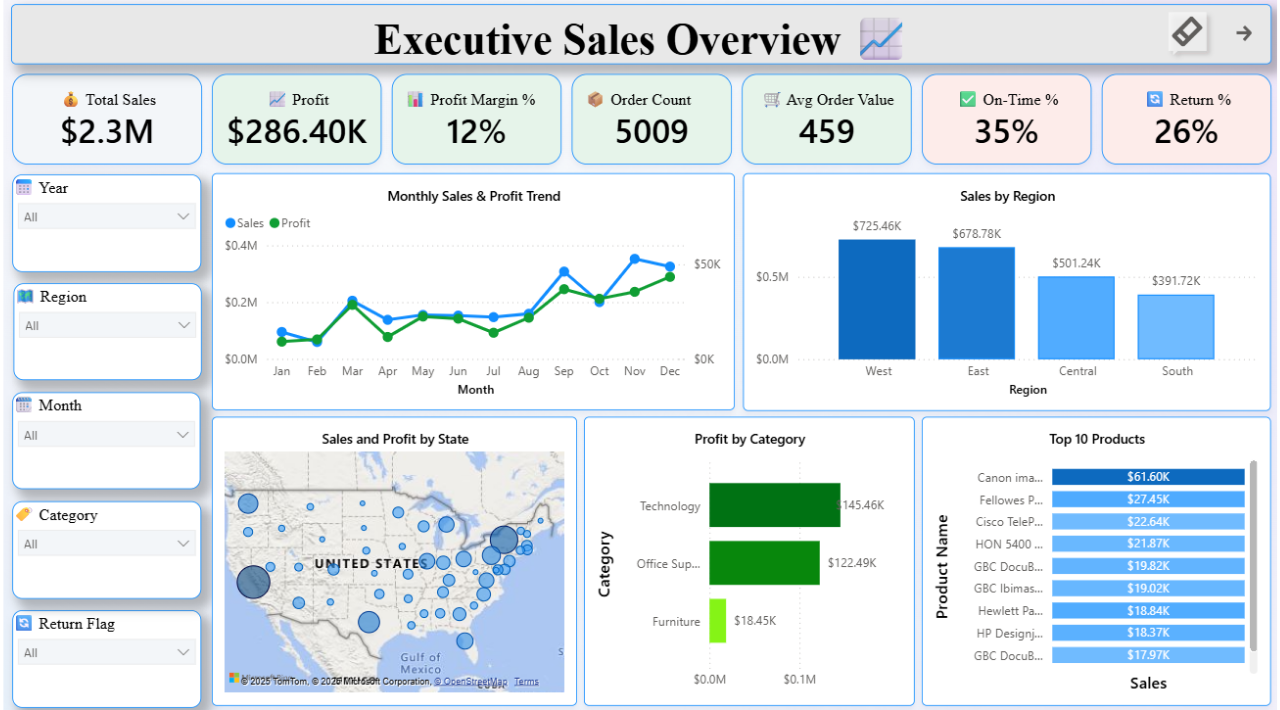

Layout of this report page (visuals, bound fields, positions):
{"tool":"powerbi","page":{"name":"Executive Sales Overview","canvas":[1280,720],"ordinal":0},"visuals":[{"type":"card","title":"💰 Total Sales","fields":{"Values":["Measures Table.Total Sales"]},"box":[11,75.6,189.5,90.5],"z":0},{"type":"textbox","title":"Executive Sales Overview 📈 ","box":[9.8,6.1,1259.5,59.9],"z":1000},{"type":"card","title":"🔄 Return %","fields":{"Values":["Measures Table.Return Rate %"]},"box":[1099.3,75.6,170,90.5],"z":2000},{"type":"card","title":"📈 Profit","fields":{"Values":["Measures Table.Total Profit"]},"box":[210.3,75.8,170,90.5],"z":3000},{"type":"card","title":"✅ On-Time %","fields":{"Values":["Measures Table.On-Time %"]},"box":[919.6,75.8,170,90.5],"z":4000},{"type":"card","title":"🛒 Avg Order Value ","fields":{"Values":["Measures Table.AvgOrderValue(AOV)"]},"box":[739.8,75.8,170,90.5],"z":5000},{"type":"card","title":"📦 Order Count","fields":{"Values":["Measures Table.Order Count"]},"box":[569.8,75.8,160.2,90.5],"z":6000},{"type":"card","title":"📊 Profit Margin %","fields":{"Values":["Measures Table.Profit Margin %"]},"box":[390.1,75.8,170,90.5],"z":7000},{"type":"slicer","title":"📅 Year","fields":{"Values":["Date.Year"]},"box":[11,175.9,188.8,97.5],"z":8000},{"type":"slicer","title":"🗺️ Region","fields":{"Values":["Geography.State"]},"box":[12.2,284.9,188.3,96.6],"z":9000},{"type":"slicer","title":"🗓️ Month","fields":{"Values":["Orders.Month"]},"box":[11,393.8,188.3,96.6],"z":10000},{"type":"slicer","title":"🔄 Return Flag","fields":{"Values":["Orders.Return Flag"]},"box":[11,610.9,188.8,97.5],"z":11000},{"type":"slicer","title":"🏷️ Category","fields":{"Values":["Orders.Category","Orders.Sub-Category"]},"box":[11,502.1,188.8,97.5],"z":12000},{"type":"lineChart","title":"Monthly Sales & Profit Trend","fields":{"Category":["Orders.Month"],"Y":["Measures Table.Total Sales"],"Y2":["Measures Table.Total Profit"]},"box":[210.3,174.9,522,237],"z":13000},{"type":"columnChart","title":"Sales by Region","fields":{"Y":["Measures Table.Sales"],"Category":["Geography.Region"]},"box":[741,174.9,527,237.2],"z":14000},{"type":"clusteredBarChart","title":"Profit by Category ","fields":{"Category":["Products.Category"],"Y":["Measures Table.Profit"]},"box":[581.8,418.6,330,288.8],"z":15000},{"type":"hundredPercentStackedBarChart","title":" Top 10 Products","fields":{"Category":["Products.Product Name"],"Y":["Measures Table.Sales"]},"box":[919.3,418.6,348.8,288.8],"z":16000},{"type":"map","fields":{"Category":["Geography.State"],"Size":["Measures Table.Sales"]},"box":[210.6,418.6,365,288.8],"z":17000},{"type":"actionButton","box":[1215.5,9.8,53.8,51.4],"z":18000},{"type":"actionButton","box":[1156.8,4.9,56.3,61.1],"z":19000}]}

Visuals, with their boxes in screenshot pixels (x1, y1, x2, y2), scaled from the page's 1280x720 canvas onto the 1280x710 screenshot:
"💰 Total Sales" card: detection(11, 75, 200, 164)
"Executive Sales Overview 📈 " textbox: detection(10, 6, 1269, 65)
"🔄 Return %" card: detection(1099, 75, 1269, 164)
"📈 Profit" card: detection(210, 75, 380, 164)
"✅ On-Time %" card: detection(920, 75, 1090, 164)
"🛒 Avg Order Value " card: detection(740, 75, 910, 164)
"📦 Order Count" card: detection(570, 75, 730, 164)
"📊 Profit Margin %" card: detection(390, 75, 560, 164)
"📅 Year" slicer: detection(11, 173, 200, 270)
"🗺️ Region" slicer: detection(12, 281, 200, 376)
"🗓️ Month" slicer: detection(11, 388, 199, 484)
"🔄 Return Flag" slicer: detection(11, 602, 200, 699)
"🏷️ Category" slicer: detection(11, 495, 200, 591)
"Monthly Sales & Profit Trend" lineChart: detection(210, 172, 732, 406)
"Sales by Region" columnChart: detection(741, 172, 1268, 406)
"Profit by Category " clusteredBarChart: detection(582, 413, 912, 698)
" Top 10 Products" hundredPercentStackedBarChart: detection(919, 413, 1268, 698)
map - Geography.State x Measures Table.Sales: detection(211, 413, 576, 698)
actionButton: detection(1216, 10, 1269, 60)
actionButton: detection(1157, 5, 1213, 65)
